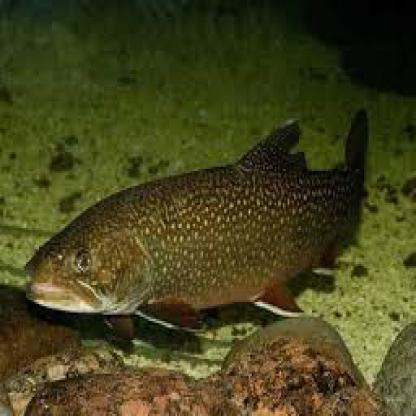fish: (20, 106, 376, 351)
